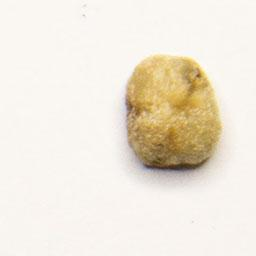defect: (122, 50, 227, 175)
